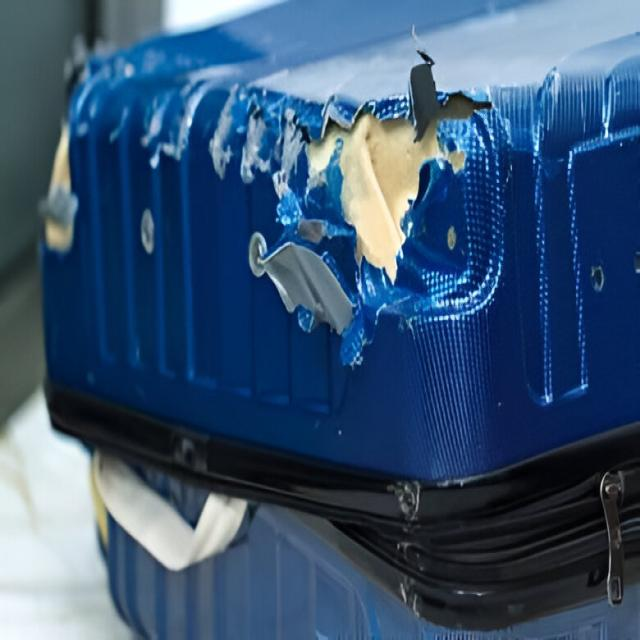Damage-bag: (209, 49, 510, 360), (92, 452, 248, 569), (530, 74, 622, 171), (41, 123, 79, 251), (150, 78, 200, 157), (390, 482, 420, 522)
